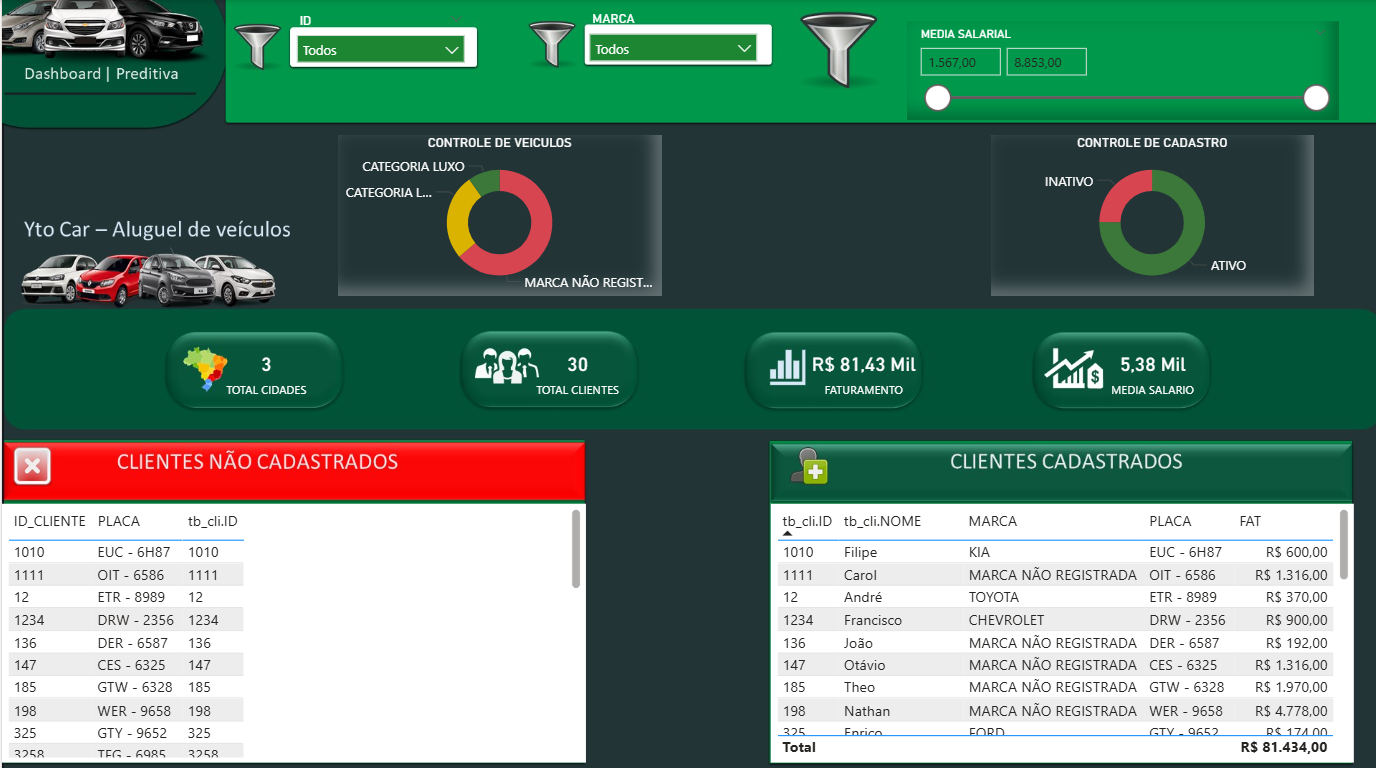

This screenshot's page, from the dashboard's own definition file:
{"tool":"powerbi","page":{"name":"CLIENTES","canvas":[1280,720],"ordinal":2},"visuals":[{"type":"card","fields":{"Values":["MEDIDAS.TT DE CIDADES"]},"box":[174.7,310.3,143.6,71.8],"z":0},{"type":"card","fields":{"Values":["MEDIDAS.TT DE CLIENTES"]},"box":[463.7,310.3,143.6,71.8],"z":1000},{"type":"card","fields":{"Values":["MEDIDAS.FAT"]},"box":[729.8,310.3,143.6,71.8],"z":2000},{"type":"card","fields":{"Values":["MEDIDAS.TCKET MEDIO SALARIO"]},"box":[998.4,310.3,143.6,71.8],"z":3000},{"type":"donutChart","title":"CONTROLE DE CADASTRO","fields":{"Category":["tb_km.SITUAÇÃO CADASTRAL"],"Y":["MEDIDAS.FAT"]},"box":[919.5,125,300.6,149.9],"z":4000},{"type":"donutChart","title":"CONTROLE DE VEICULOS","fields":{"Y":["MEDIDAS.FAT"],"Category":["tb_km.CATEGORIAS"]},"box":[313,125,300.6,149.9],"z":5000},{"type":"slicer","fields":{"Values":["tb_cli.ID"]},"box":[264.2,7.1,176.5,62.1],"z":6000},{"type":"slicer","fields":{"Values":["tb_km.MARCA"]},"box":[535.6,5.3,176.5,62.1],"z":7000},{"type":"slicer","fields":{"Values":["tb_cli.SALARIO"]},"box":[842.4,19.5,401.7,92.2],"z":8000},{"type":"tableEx","fields":{"Values":["INNER JOIN.tb_cli.ID","INNER JOIN.tb_cli.NOME","INNER JOIN.MARCA","INNER JOIN.PLACA","MEDIDAS.FAT"]},"box":[715.6,469.1,542.7,241.2],"z":9000},{"type":"tableEx","fields":{"Values":["LEFT JOIN.ID_CLIENTE","LEFT JOIN.PLACA","LEFT JOIN.tb_cli.ID"]},"box":[0,469.1,543.5,241.2],"z":10000}]}

Visuals, with their boxes in screenshot pixels (x1, y1, x2, y2), scaled from the page's 1280x720 canvas onto the 1376x768 screenshot:
card - MEDIDAS.TT DE CIDADES: bbox=[188, 331, 342, 408]
card - MEDIDAS.TT DE CLIENTES: bbox=[498, 331, 653, 408]
card - MEDIDAS.FAT: bbox=[785, 331, 939, 408]
card - MEDIDAS.TCKET MEDIO SALARIO: bbox=[1073, 331, 1228, 408]
"CONTROLE DE CADASTRO" donutChart: bbox=[988, 133, 1312, 293]
"CONTROLE DE VEICULOS" donutChart: bbox=[336, 133, 660, 293]
slicer - tb_cli.ID: bbox=[284, 8, 474, 74]
slicer - tb_km.MARCA: bbox=[576, 6, 766, 72]
slicer - tb_cli.SALARIO: bbox=[906, 21, 1337, 119]
tableEx - INNER JOIN.tb_cli.ID x INNER JOIN.tb_cli.NOME: bbox=[769, 500, 1353, 758]
tableEx - LEFT JOIN.ID_CLIENTE x LEFT JOIN.PLACA: bbox=[0, 500, 584, 758]
